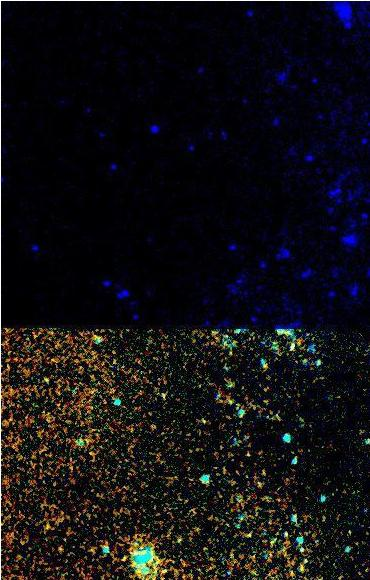star: (249, 350, 279, 380)
